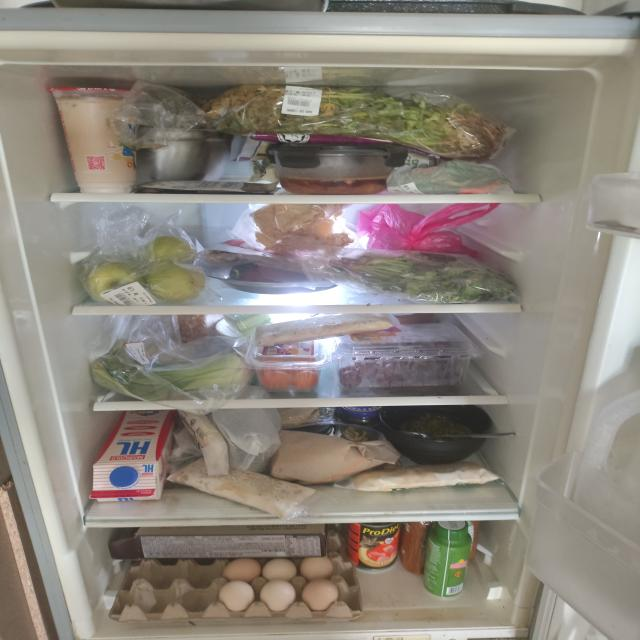apple: (87, 236, 206, 304)
egg: (108, 558, 364, 622)
grape: (338, 342, 463, 388)
leafy_greens: (198, 84, 511, 161), (345, 252, 518, 304), (93, 352, 252, 399)
tempeh: (166, 455, 318, 514), (255, 314, 395, 347), (350, 462, 500, 492), (178, 409, 230, 474)
